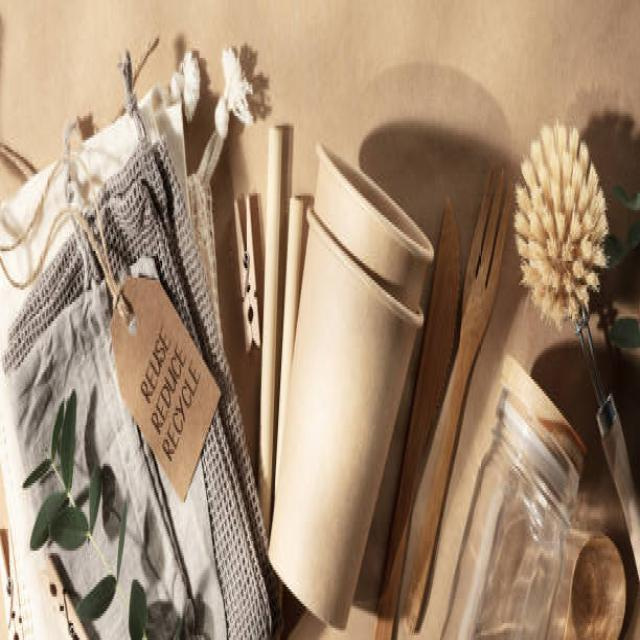plastic: (268, 164, 400, 621)
